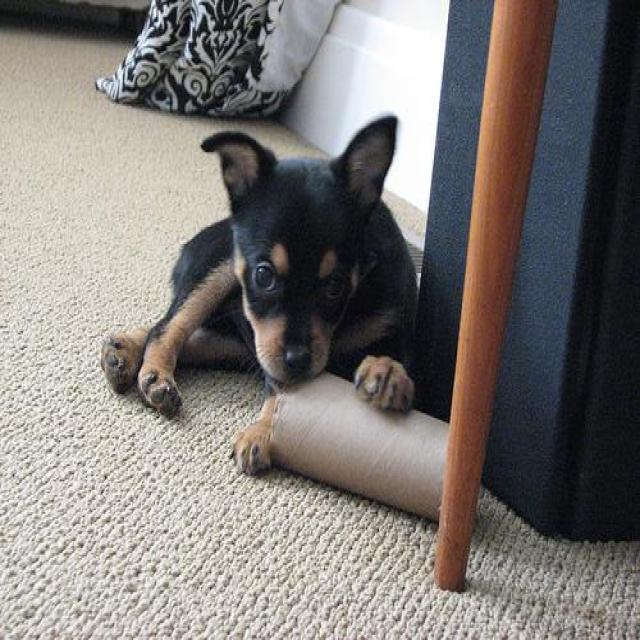toy_terrier: (96, 112, 420, 474)
